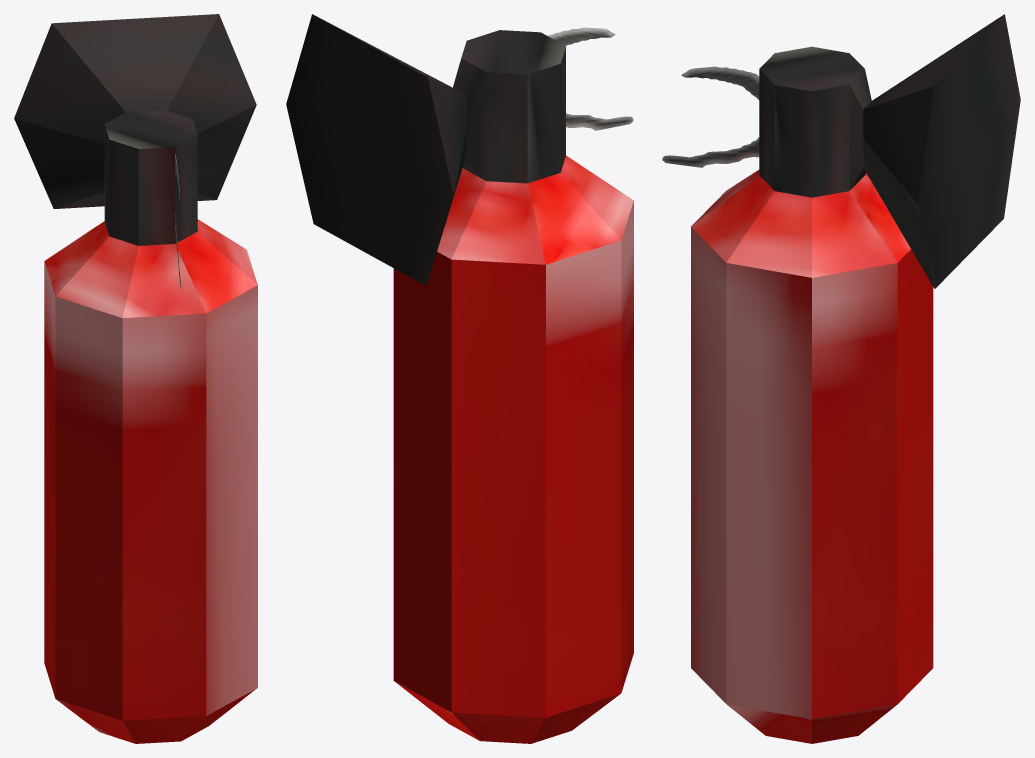
The model's file is FireExtinguisher.fbx.
The picture shows the model from 3 angles, left to right: view 1: azimuth 30°, elevation 25°; view 2: azimuth 150°, elevation 25°; view 3: azimuth 270°, elevation 25°; orthographic projection. The views are drawn at different scales.
Parts seen in each view (by area): view 1: FireExtinguisher; view 2: FireExtinguisher; view 3: FireExtinguisher.
Boxes of the visible parts, box(x1,y1,x2,y2) form: FireExtinguisher: box(14, 14, 257, 743); FireExtinguisher: box(286, 14, 633, 743); FireExtinguisher: box(662, 14, 1020, 743).
Bounding box in the file's own units: 88.05 × 214 × 99.9.
